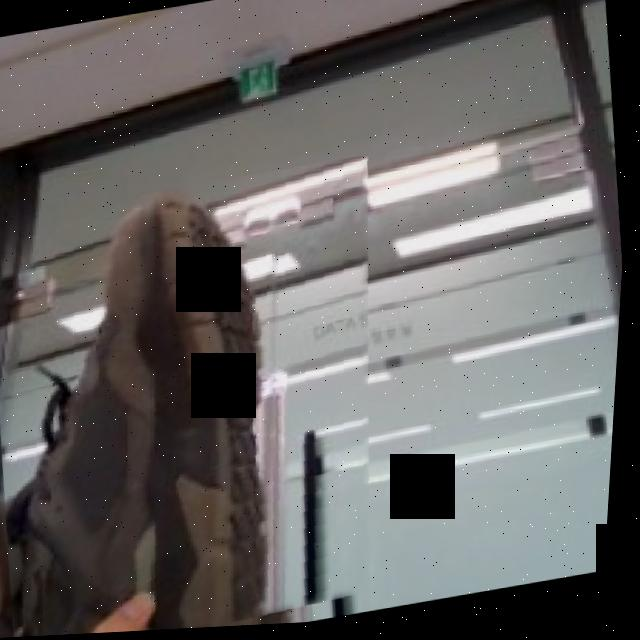shoe: (0, 156, 426, 640)
